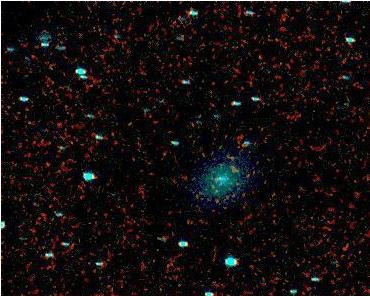star: (202, 174, 232, 204)
